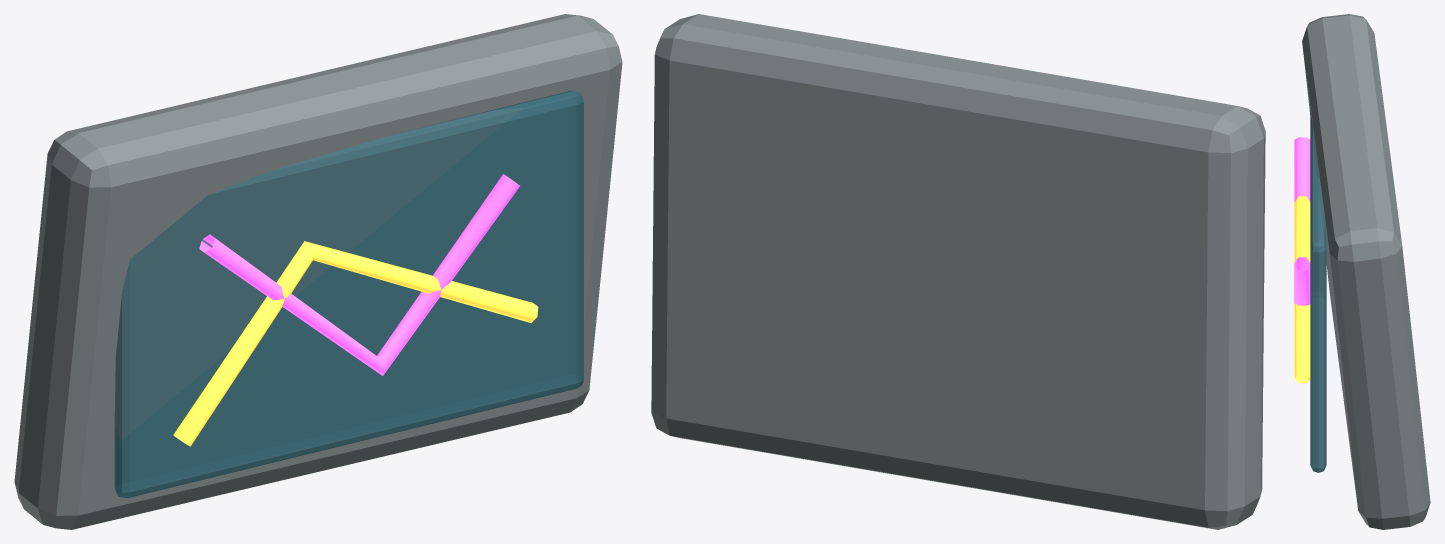
Rendered from Find_MapThatLies.glb.
3 renders of one model, left to right at view 1: azimuth 30°, elevation 25°; view 2: azimuth 150°, elevation 25°; view 3: azimuth 270°, elevation 25°, orthographic. The views are drawn at different scales.
Parts seen in each view (by area): view 1: Find_MapThatLies, Find_MapThatLies_Display; view 2: Find_MapThatLies; view 3: Find_MapThatLies, Find_MapThatLies_Display.
Boxes of the visible parts, left/top/right/bottom form: Find_MapThatLies: left=14, top=14, right=622, bottom=529; Find_MapThatLies_Display: left=114, top=91, right=583, bottom=497; Find_MapThatLies: left=651, top=14, right=1265, bottom=529; Find_MapThatLies: left=1294, top=14, right=1430, bottom=529; Find_MapThatLies_Display: left=1310, top=110, right=1326, bottom=472.
Bounding box in the file's own units: 1.15 × 0.7825 × 0.2992.
